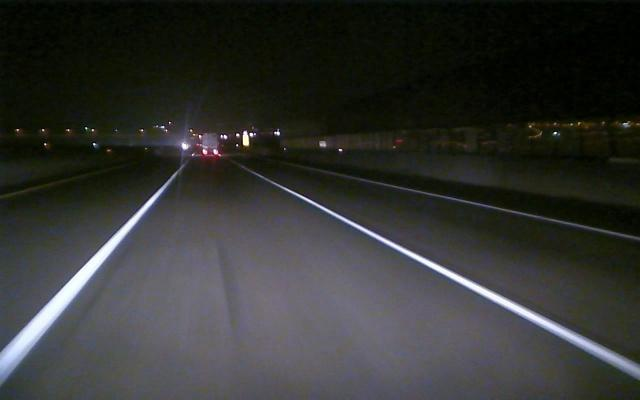lane: (259, 176, 636, 378), (3, 186, 166, 379), (359, 178, 637, 242), (0, 164, 125, 200)
